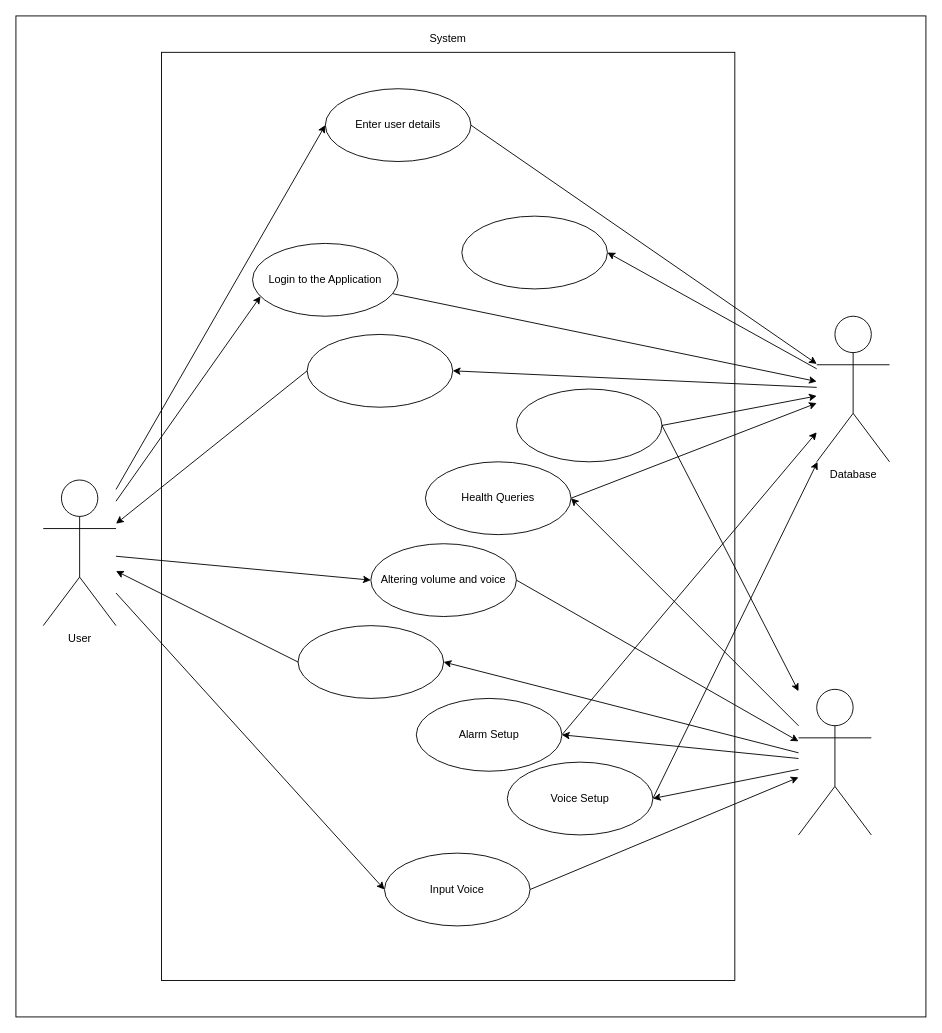
This 942x1033 diagram has some shape labels left out. The shapes that lost their labels are listed below. From the top down, each one's box as (x1, y1, x2, y2) in pixels, then its label:
(461, 215, 607, 289): Credential validation
(306, 334, 453, 407): Notifications/Alerts
(516, 388, 662, 462): Report Creation
(297, 625, 444, 698): Output Voice
(798, 688, 871, 835): AI
